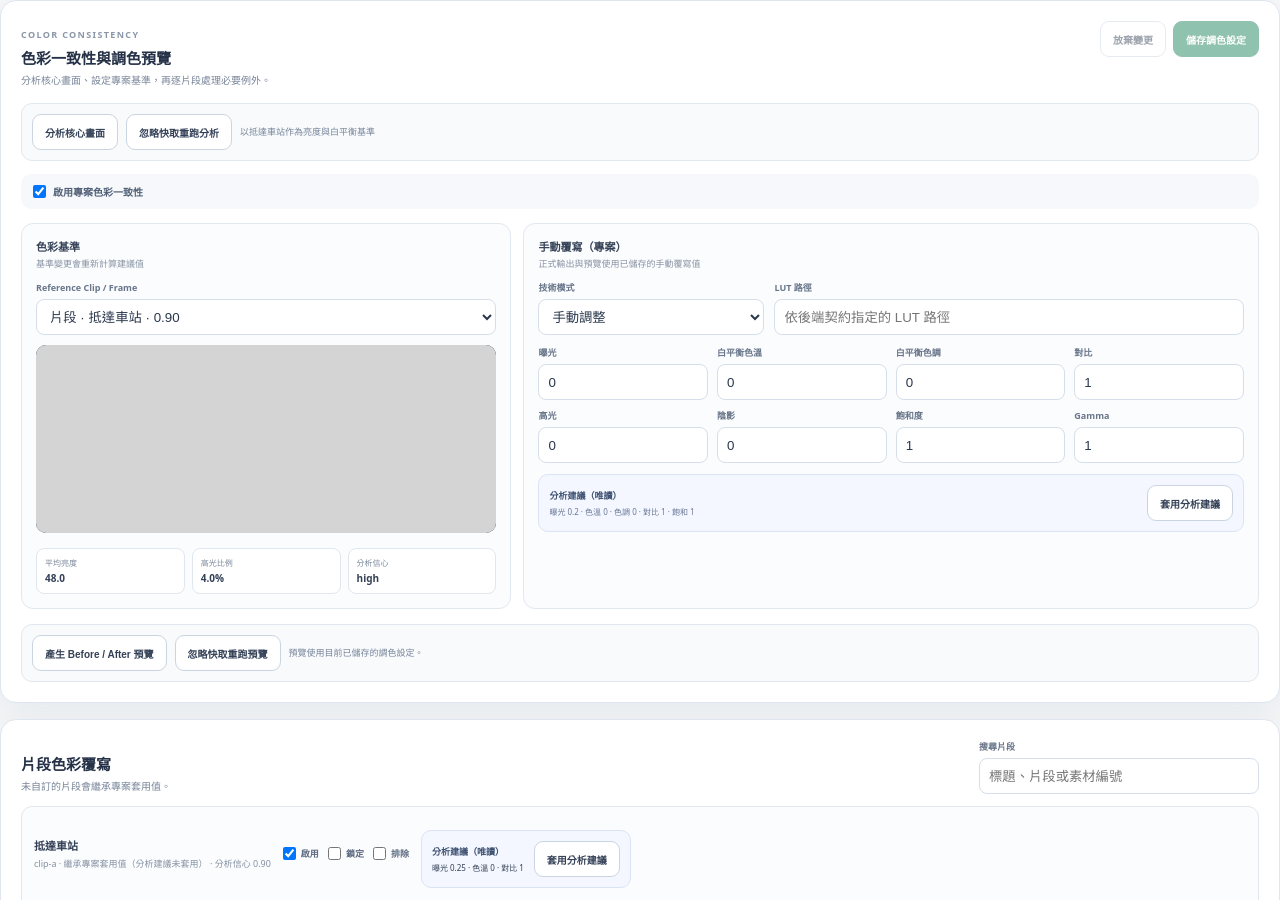
Test: ColorConsistencyWorkspace › marks project adjustments dirty and restores the server baseline
This screenshot has width=1280, height=900.
Replace the text in the number field named "專案曝光" with ".5". click: (623, 382)
box: [538, 364, 708, 400]
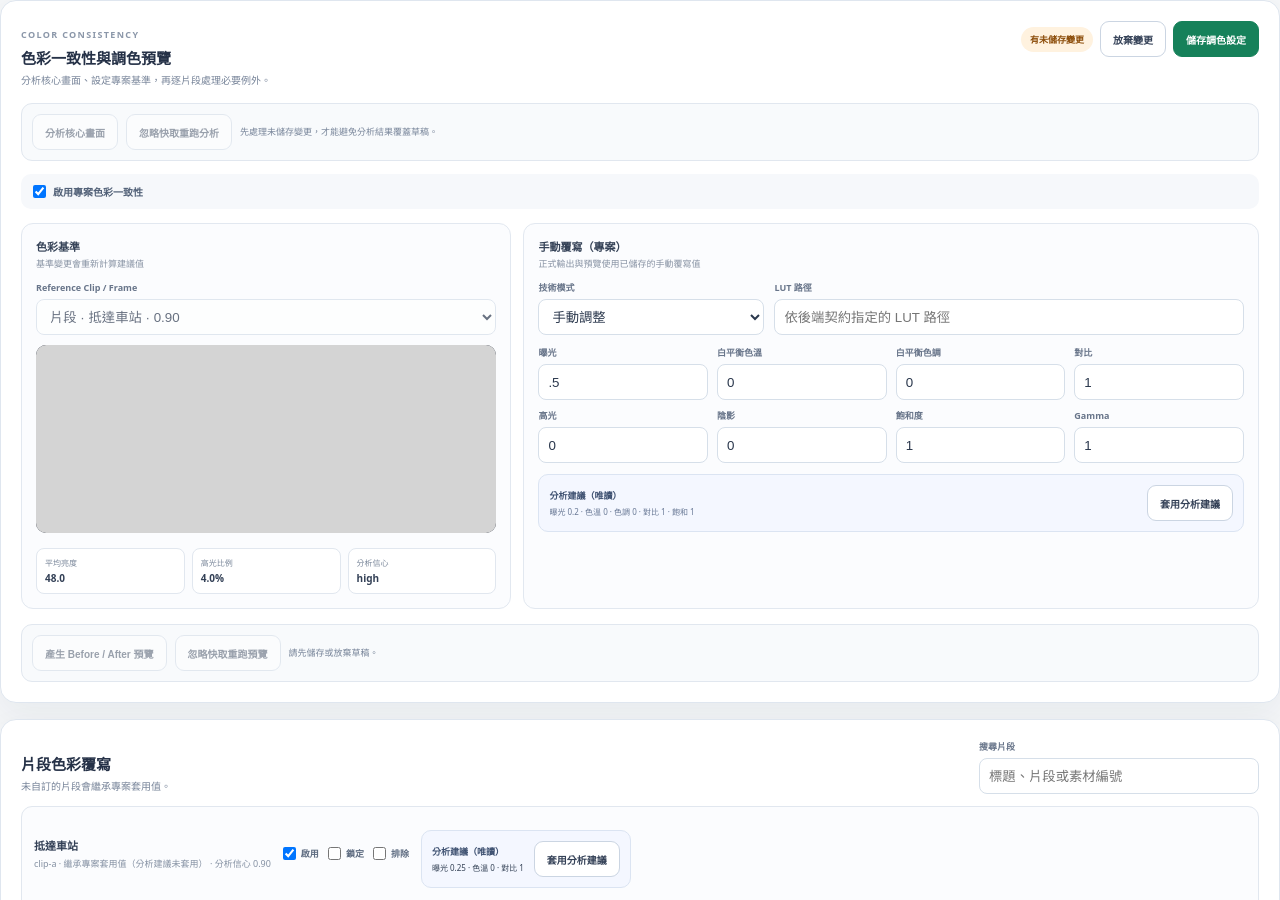
Check: the text "有未儲存變更" is shown, box [1021, 26, 1093, 52]
Check: the button "儲存調色設定" is enabled, box [1173, 21, 1259, 57]
Check: the button "分析核心畫面" is disabled, box [32, 114, 118, 150]
Click the button "放棄變更". click: (1133, 39)
box: [1100, 21, 1166, 57]
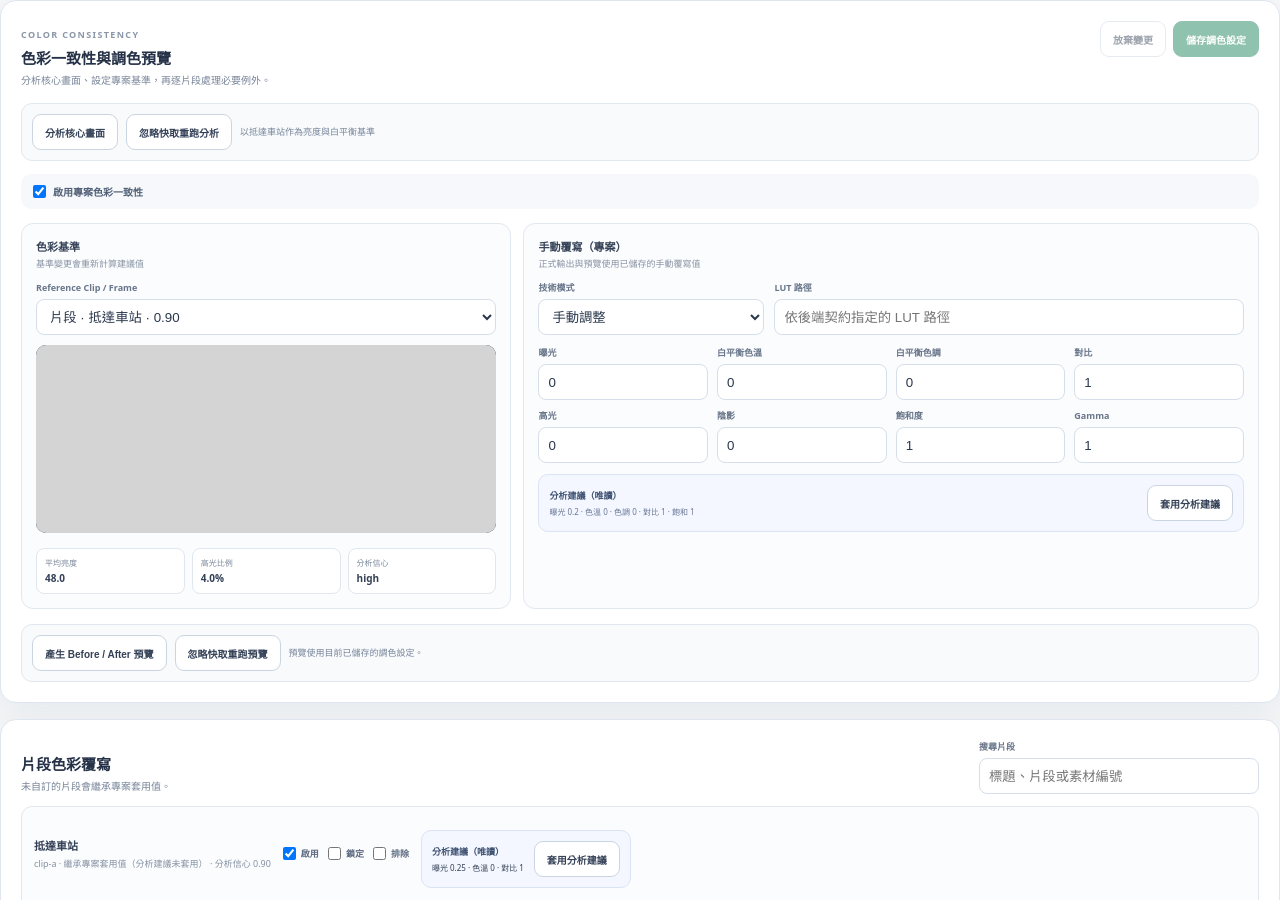
Check: the number field named "專案曝光" holds "0", box [538, 364, 708, 400]
Check: the text "有未儲存變更" is gone
